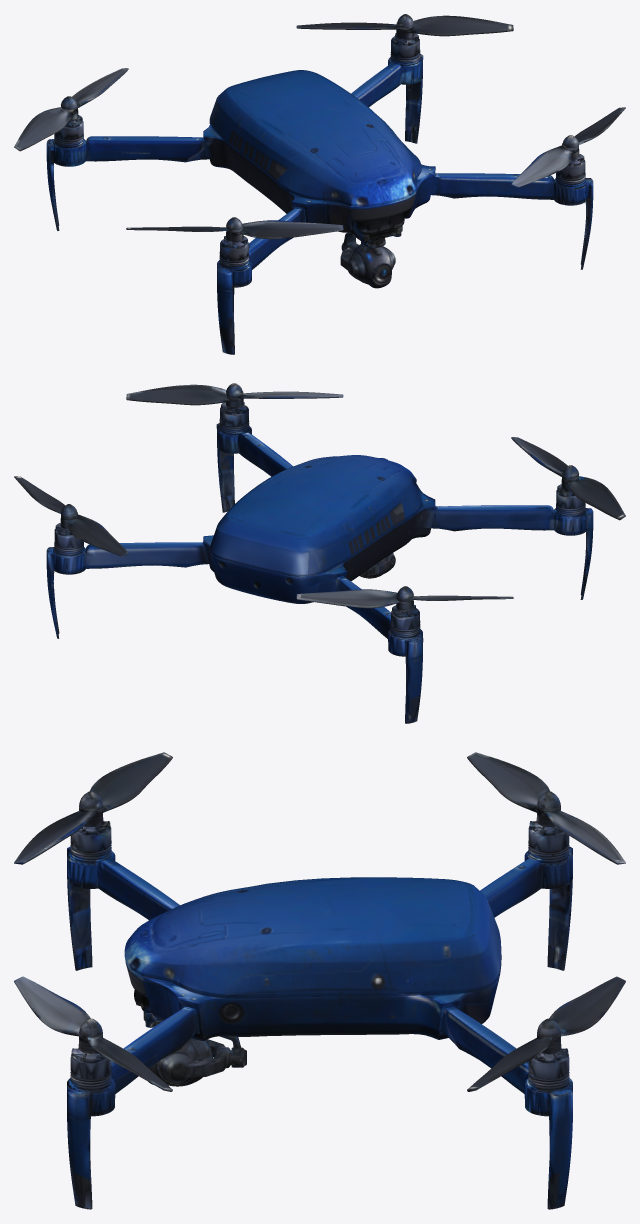
The model's file is drone.glb.
The picture shows the model from 3 angles, top to bottom: view 1: azimuth 30°, elevation 25°; view 2: azimuth 150°, elevation 25°; view 3: azimuth 270°, elevation 25°; orthographic projection. The views are drawn at different scales.
Size of the model in its own units: 2 by 0.5245 by 1.53.
1 material, 1 textured.
